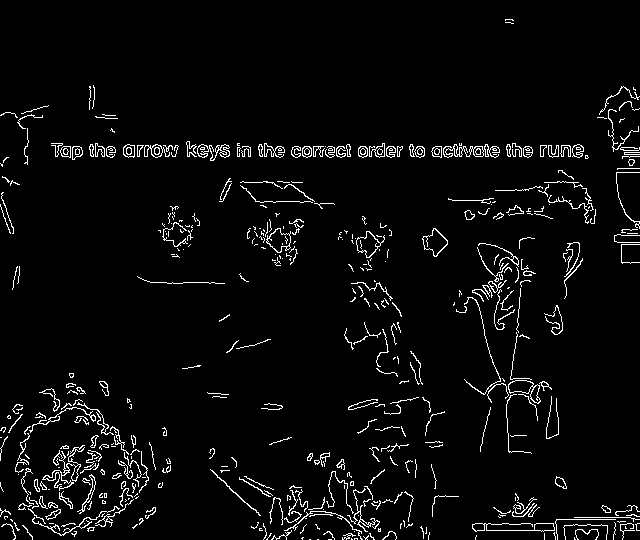left: (262, 225, 301, 264)
right: (350, 223, 387, 269), (418, 222, 453, 265), (158, 218, 195, 253)
